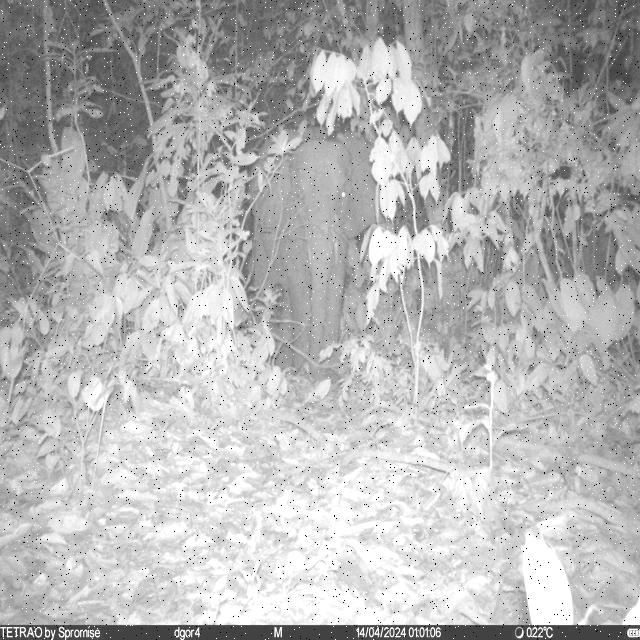ear: (338, 132, 392, 234), (250, 134, 300, 240)
elephant: (237, 121, 393, 378)
tusk: (330, 240, 340, 268), (308, 243, 316, 271)
